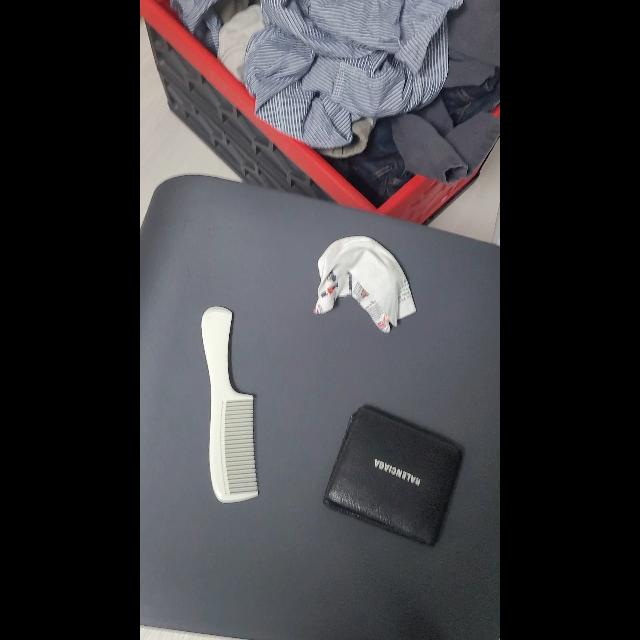COMB: (202, 306, 258, 504)
Glasses cleaning cloth: (312, 235, 416, 332)
WALLET: (322, 404, 463, 548)
